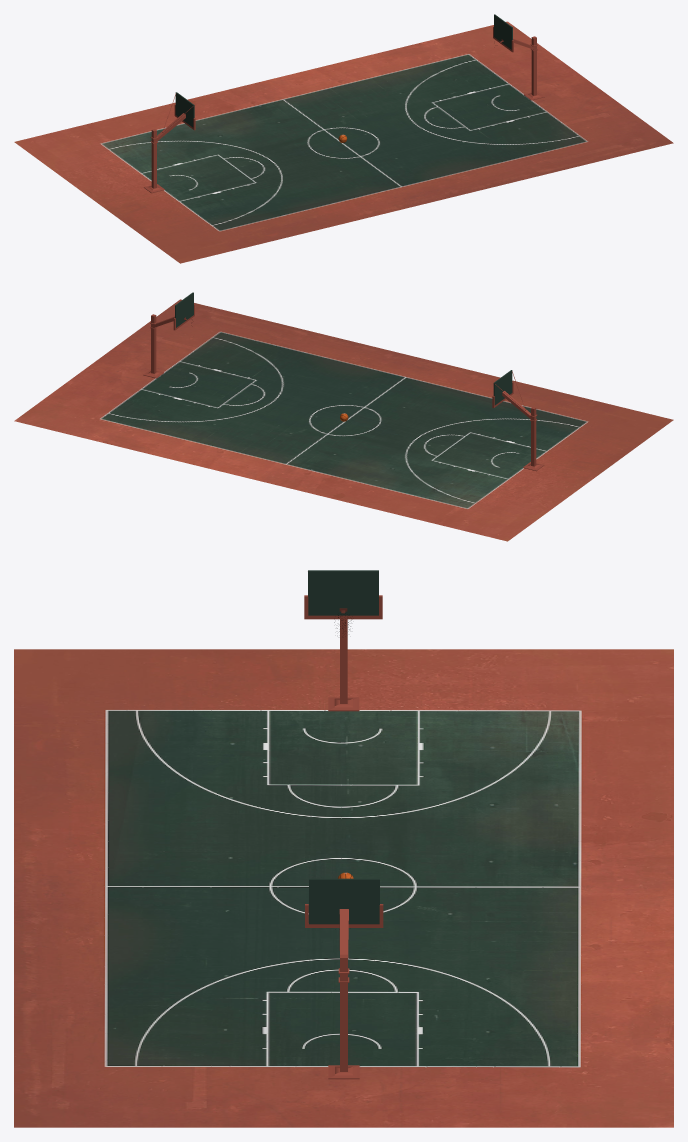
File: football.fbx
3 views of the same model, one above another, from view 1: azimuth 30°, elevation 25°; view 2: azimuth 150°, elevation 25°; view 3: azimuth 270°, elevation 25° (orthographic). The views are drawn at different scales.
Visible parts, largest first — view 1: football; view 2: football; view 3: football.
Part boxes in pixels (box(x1,y1,x2,y2)): football: box(14, 14, 673, 263); football: box(14, 292, 673, 541); football: box(14, 570, 673, 1127).
Size of the model in its own units: 7979 by 1283 by 4653.
